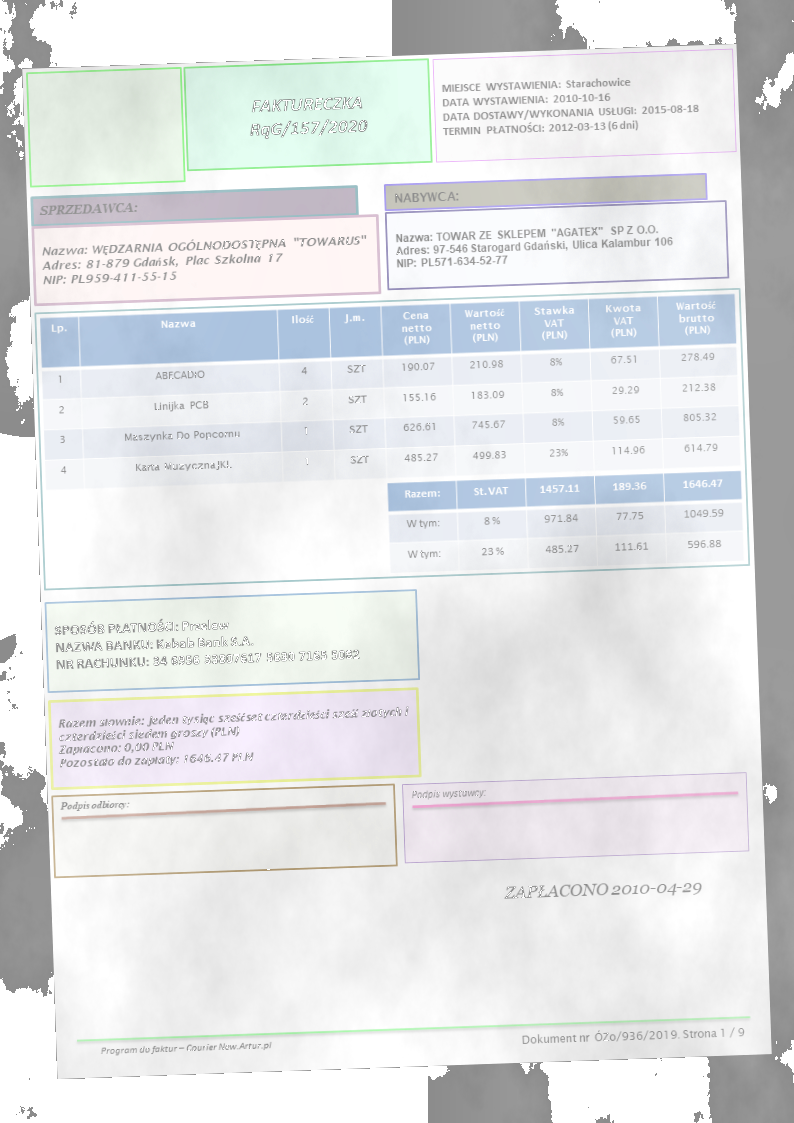Table: (38, 292, 741, 491), (385, 470, 745, 573)
TextBox: (55, 704, 413, 771), (51, 611, 363, 674), (38, 232, 369, 287), (439, 73, 702, 138), (393, 222, 675, 269), (246, 93, 370, 143), (502, 876, 704, 905), (520, 1025, 746, 1048), (97, 1038, 274, 1059), (36, 200, 139, 218), (391, 188, 461, 207), (409, 786, 487, 802), (58, 796, 132, 812)
